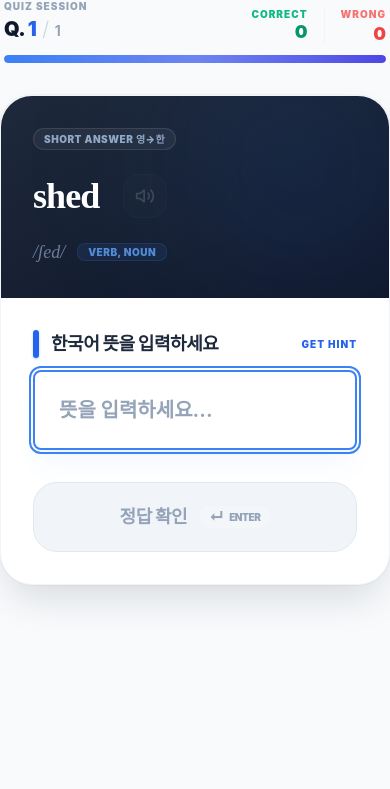
ShortAnswerQuiz › shows unmatched comma-separated answers as a warning while accepting a correct item
Type "떨구다, 틀린뜻" into the field named "한국어 뜻 입력" at point(195, 410), box [33, 370, 357, 450]
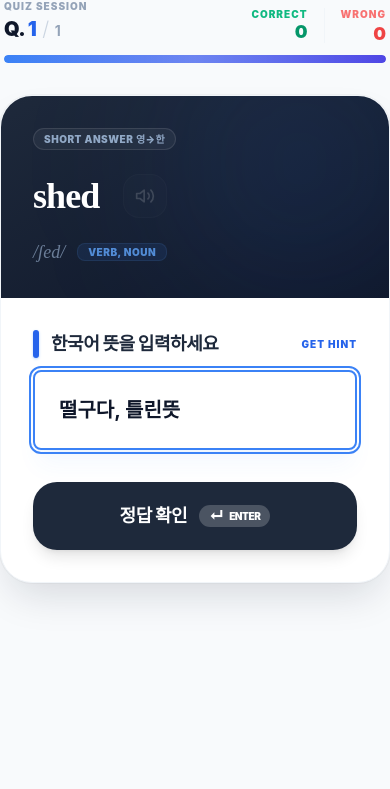
Click the button "정답 확인 ↵ ENTER" at point(153, 516), box [33, 482, 357, 550]
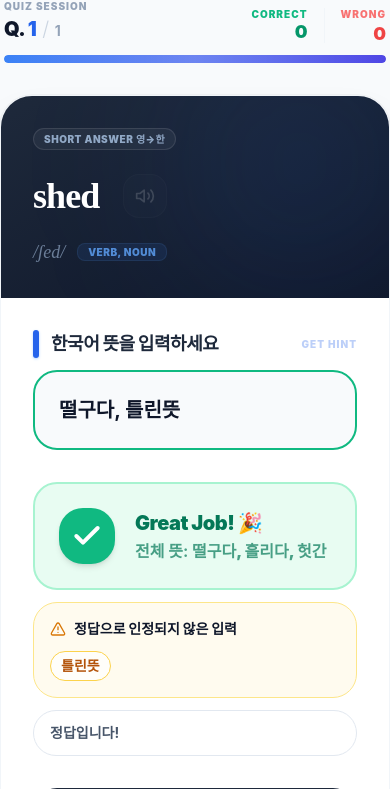
Now the heading "Great Job! 🎉" is shown, box [135, 511, 262, 535]
Now the text "정답으로 인정되지 않은 입력" is shown, box [74, 619, 237, 639]
Now the text "틀린뜻" is shown, box [50, 651, 111, 681]
